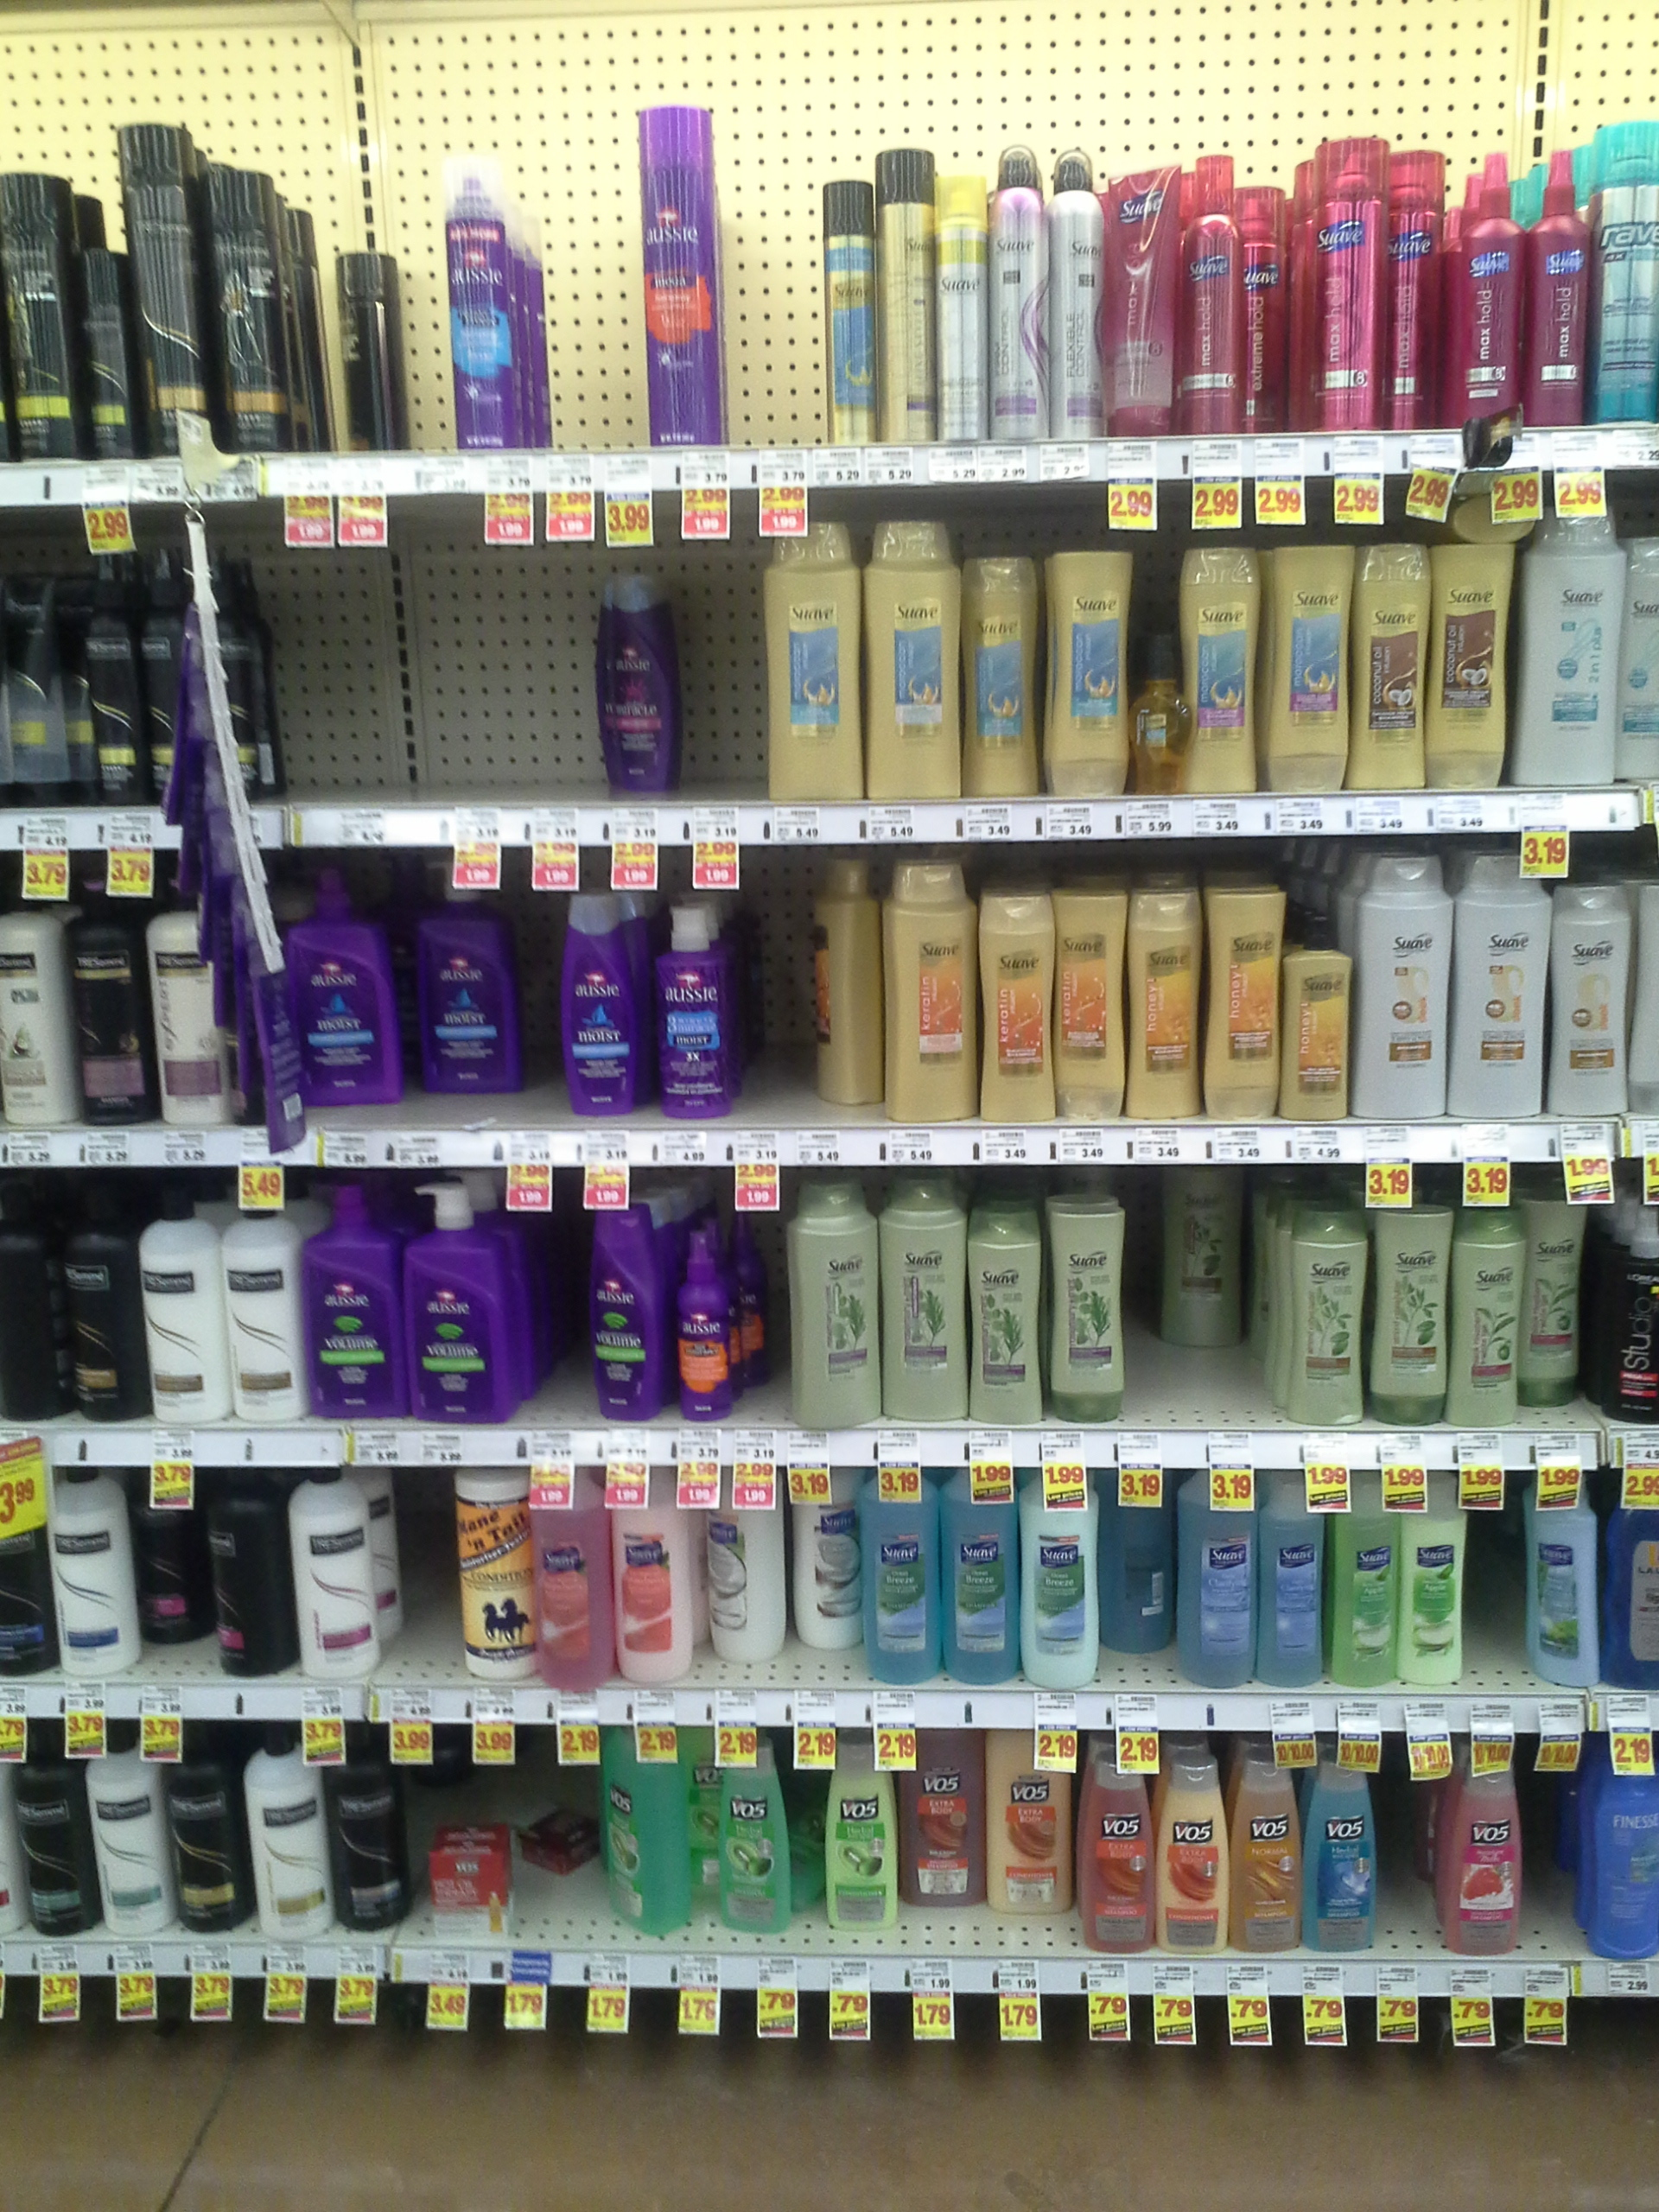Misplacement: (1150, 1169, 1253, 1430)
Out-of-stock: (307, 550, 592, 806)
